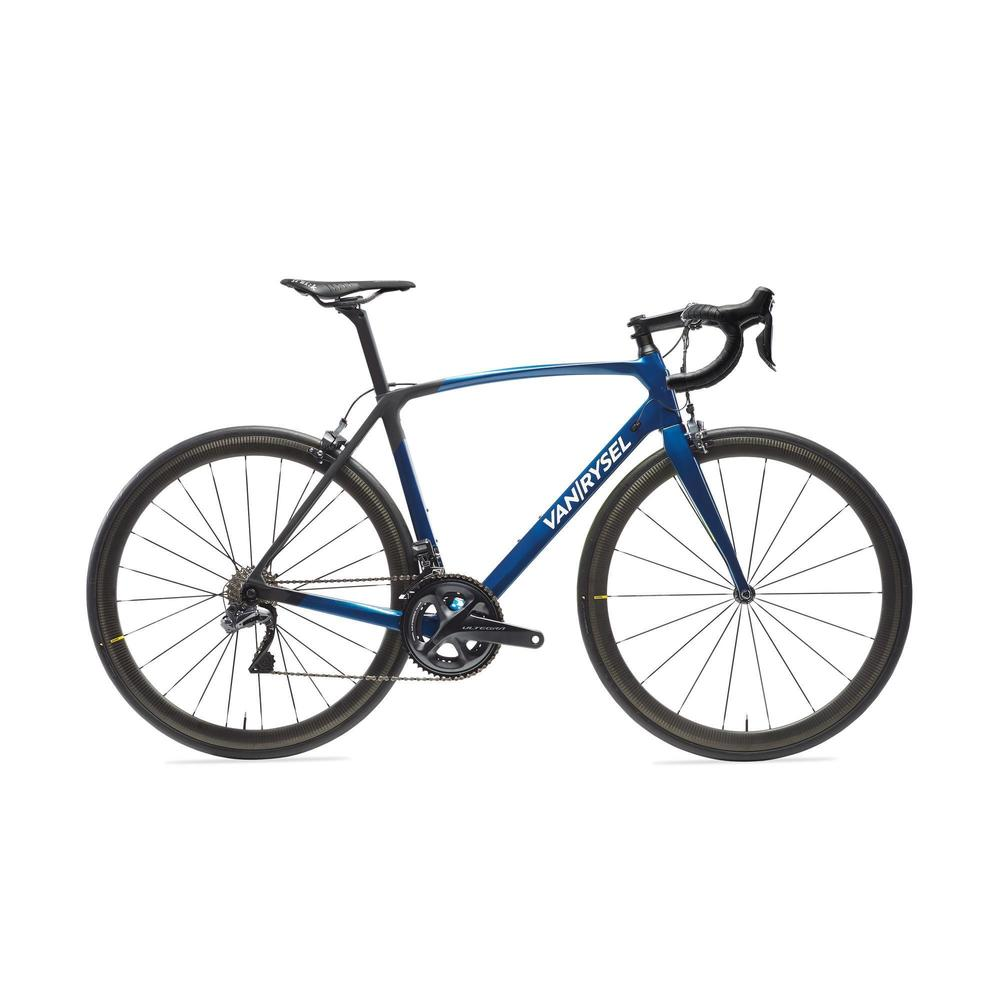RoadBike: (93, 268, 927, 761)
